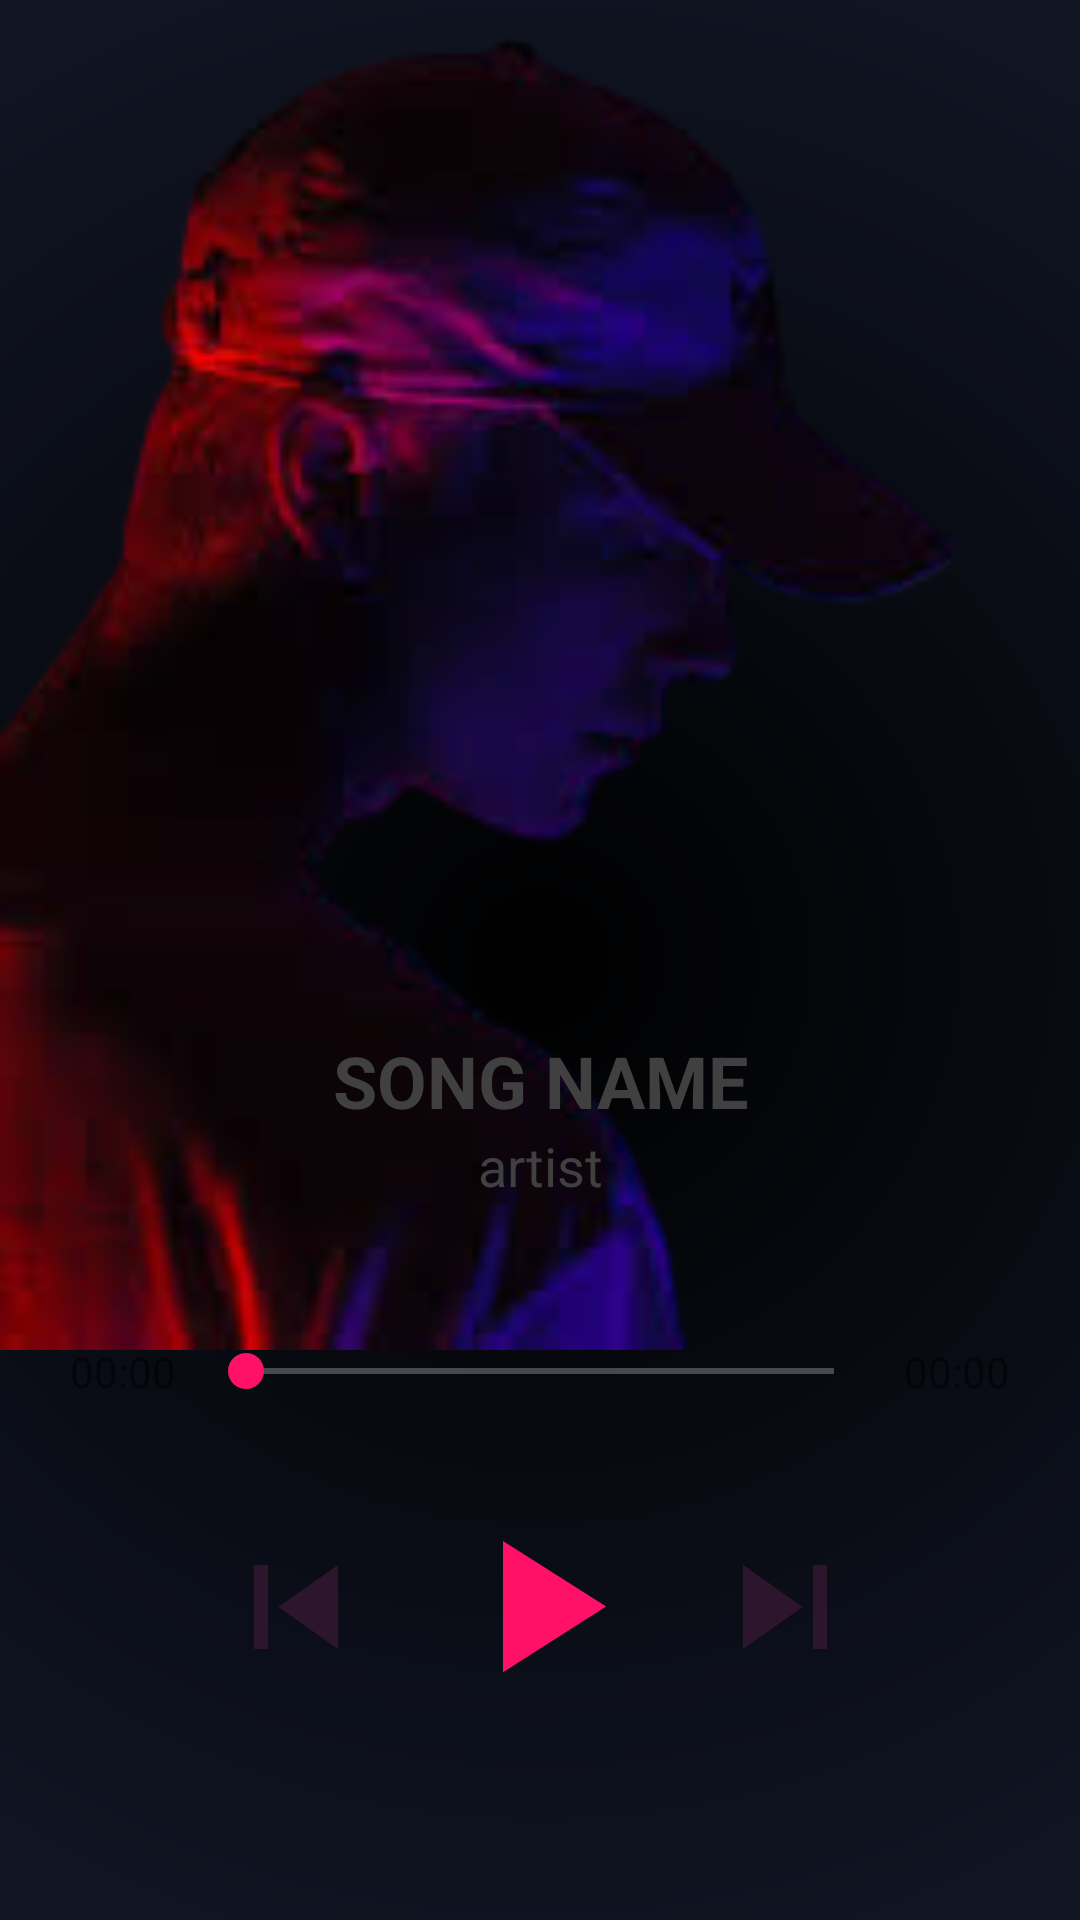

Where to tap for icons on this 1080*1920 app screen, as (x=x, y=y):
play: (x=554, y=1606)
skip: (x=785, y=1607)
skip previous: (x=296, y=1607)
